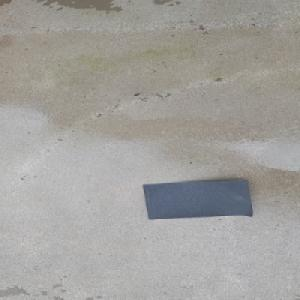PaintChip: (141, 178, 253, 219)
